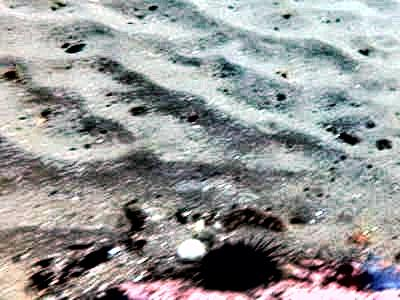urchin: (194, 237, 293, 290)
